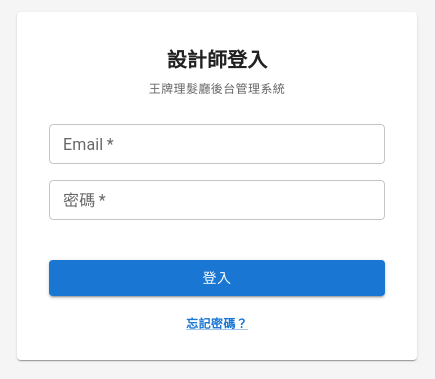
Test: LoginForm › 登入失敗時顯示既有錯誤文案，且不導向 /admin
The width and height of the screenshot is (435, 379).
Type "designer@example.com" into the field labelled "Email".
click(217, 144); type("designer@example.com")  # box [49, 124, 385, 164]
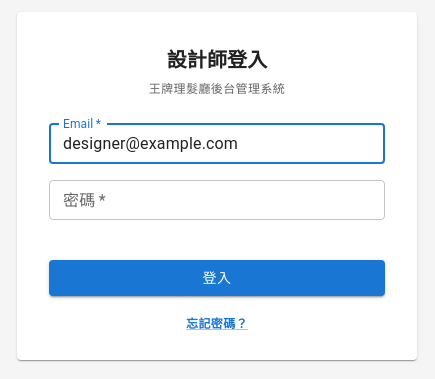
Type "wrong-or-right" into the password field labelled "密碼".
click(217, 200); type("wrong-or-right")  # box [49, 180, 385, 220]
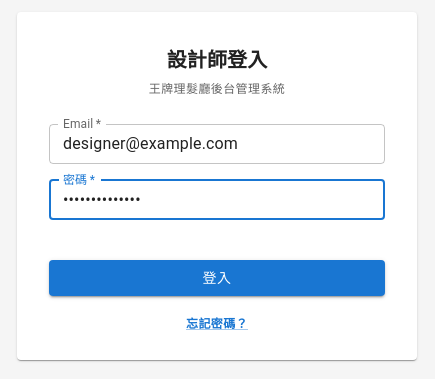
Click the button "登入".
click(217, 278)  # box [49, 260, 385, 296]
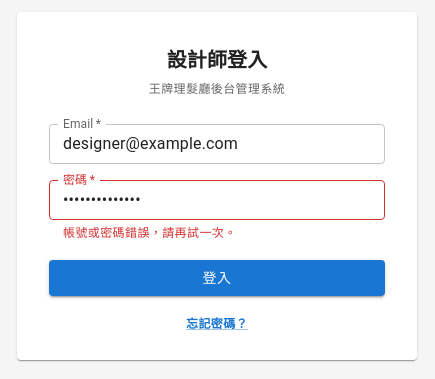
expect the text "帳號或密碼錯誤，請再試一次。" is shown: met, box [63, 226, 237, 240]
